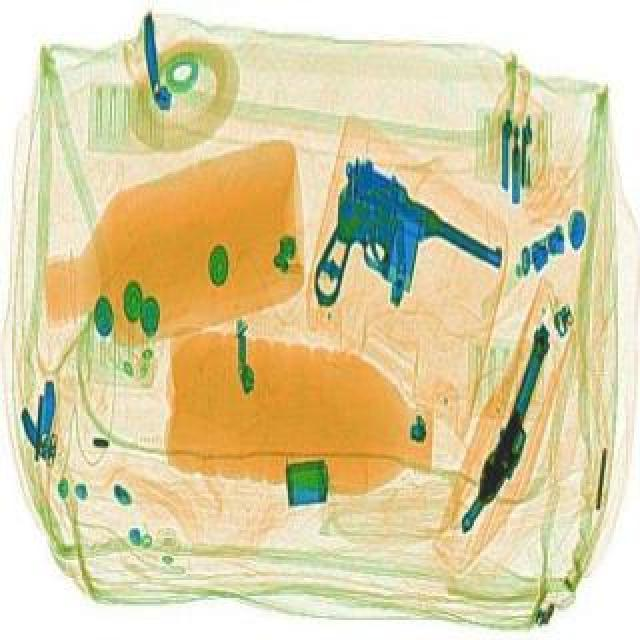gun: (266, 150, 514, 366), (456, 318, 560, 540)
